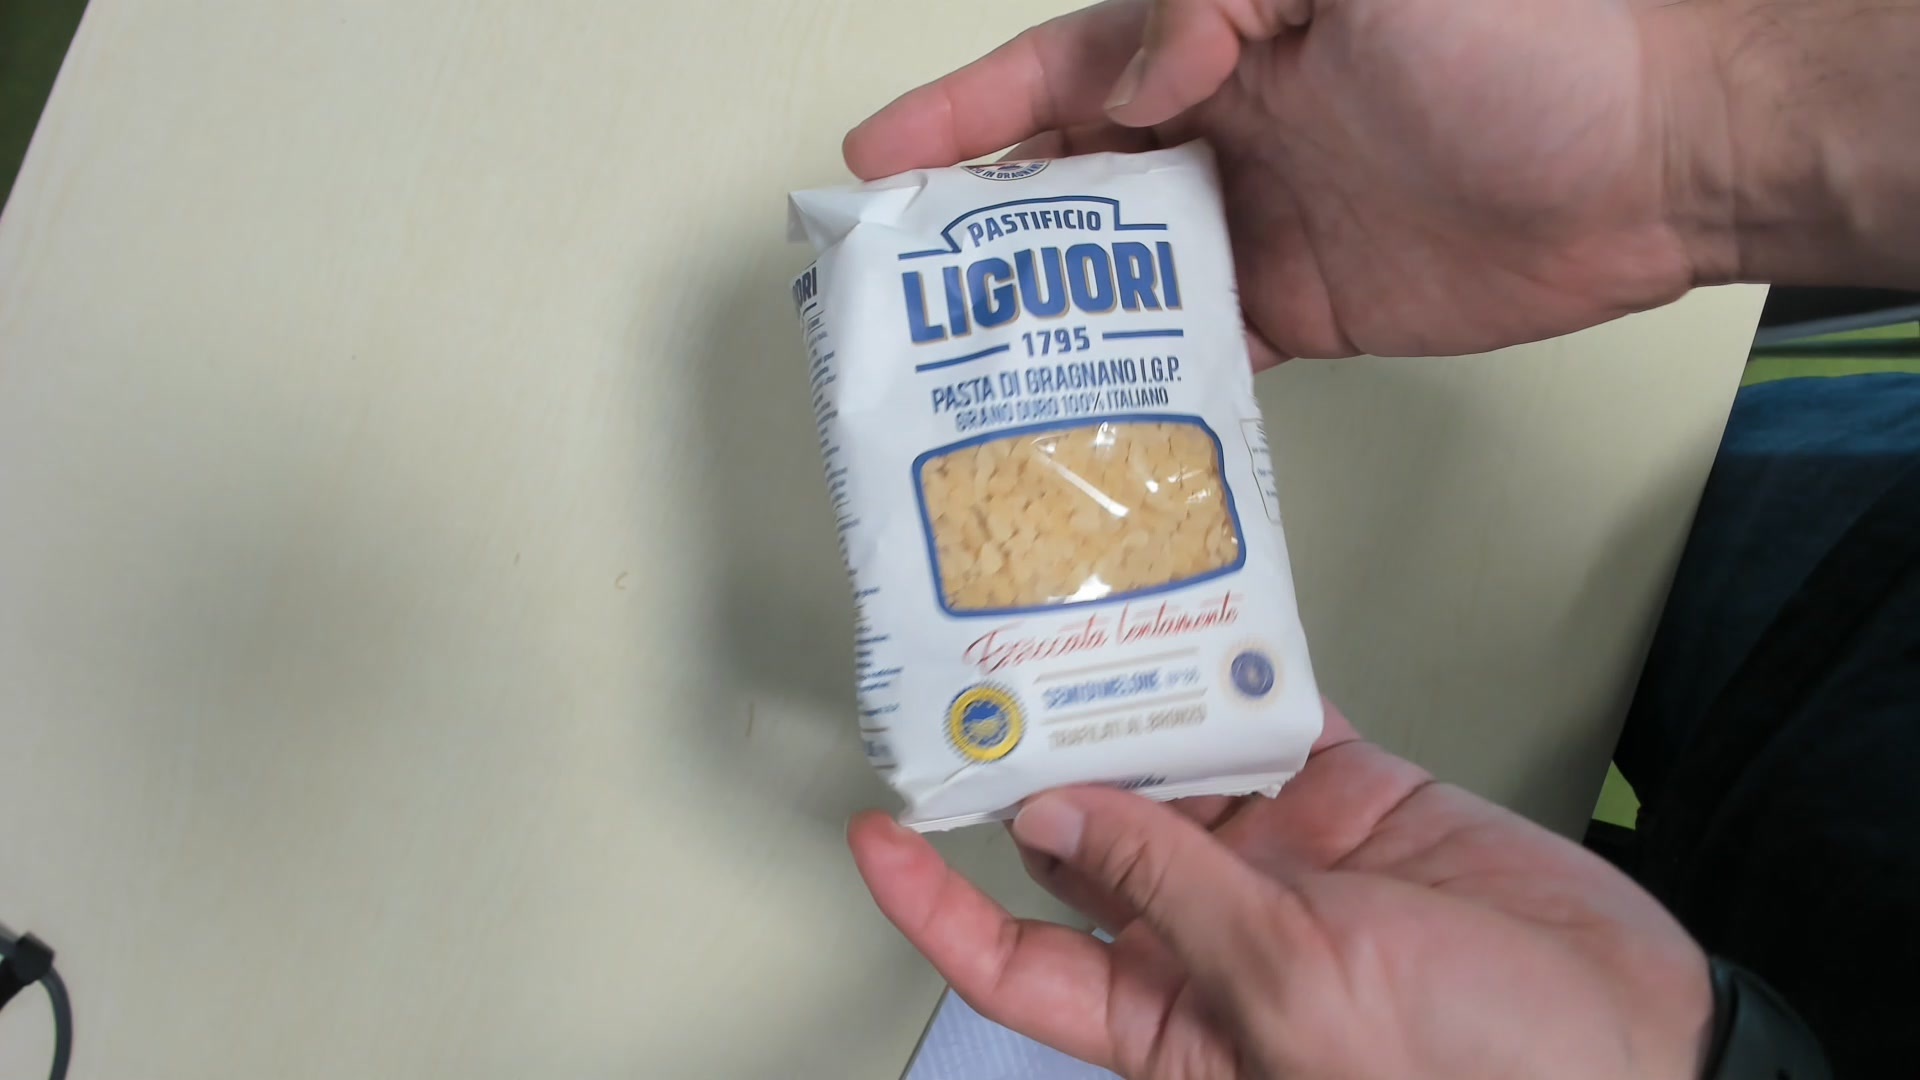Pasta_500-599g_NonHalal_NonHealthy: (791, 135, 1323, 822)
